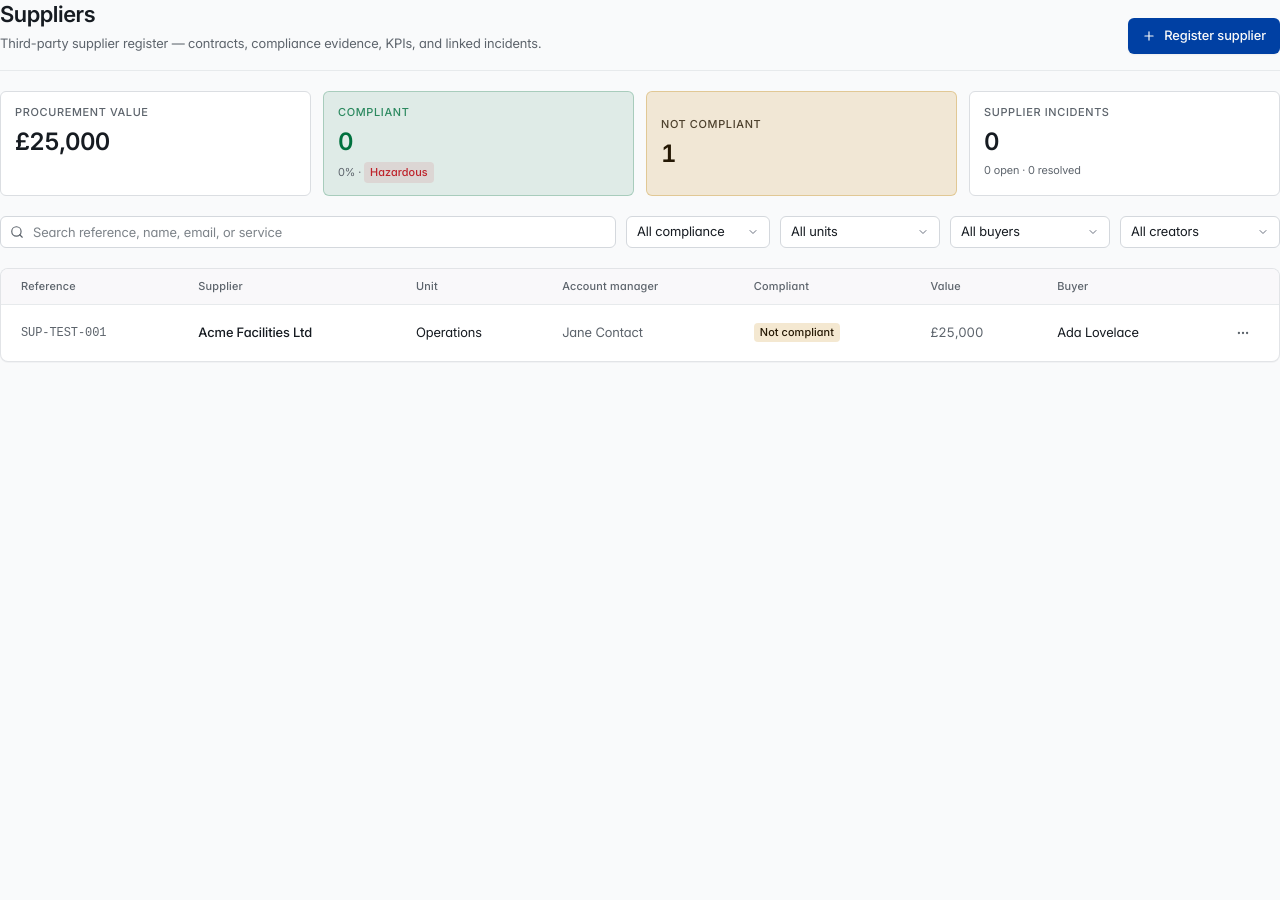
it: SuppliersListPage › shows kpi, incidents, and tasks panels
Click the text "Acme Facilities Ltd": [291, 333] box left=182, top=304, right=400, bottom=361
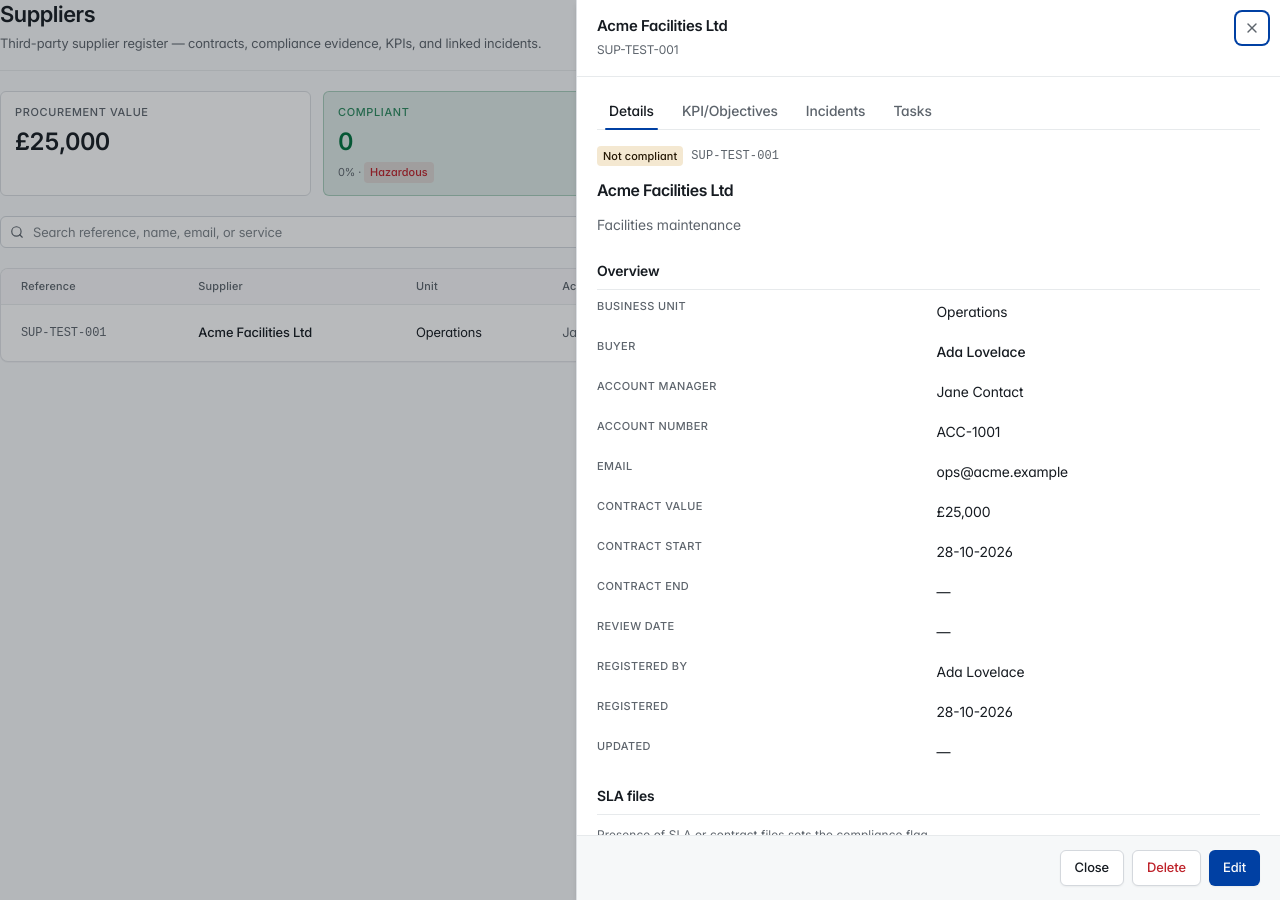
Click the tab "KPI/Objectives": [730, 111] box left=670, top=93, right=790, bottom=129
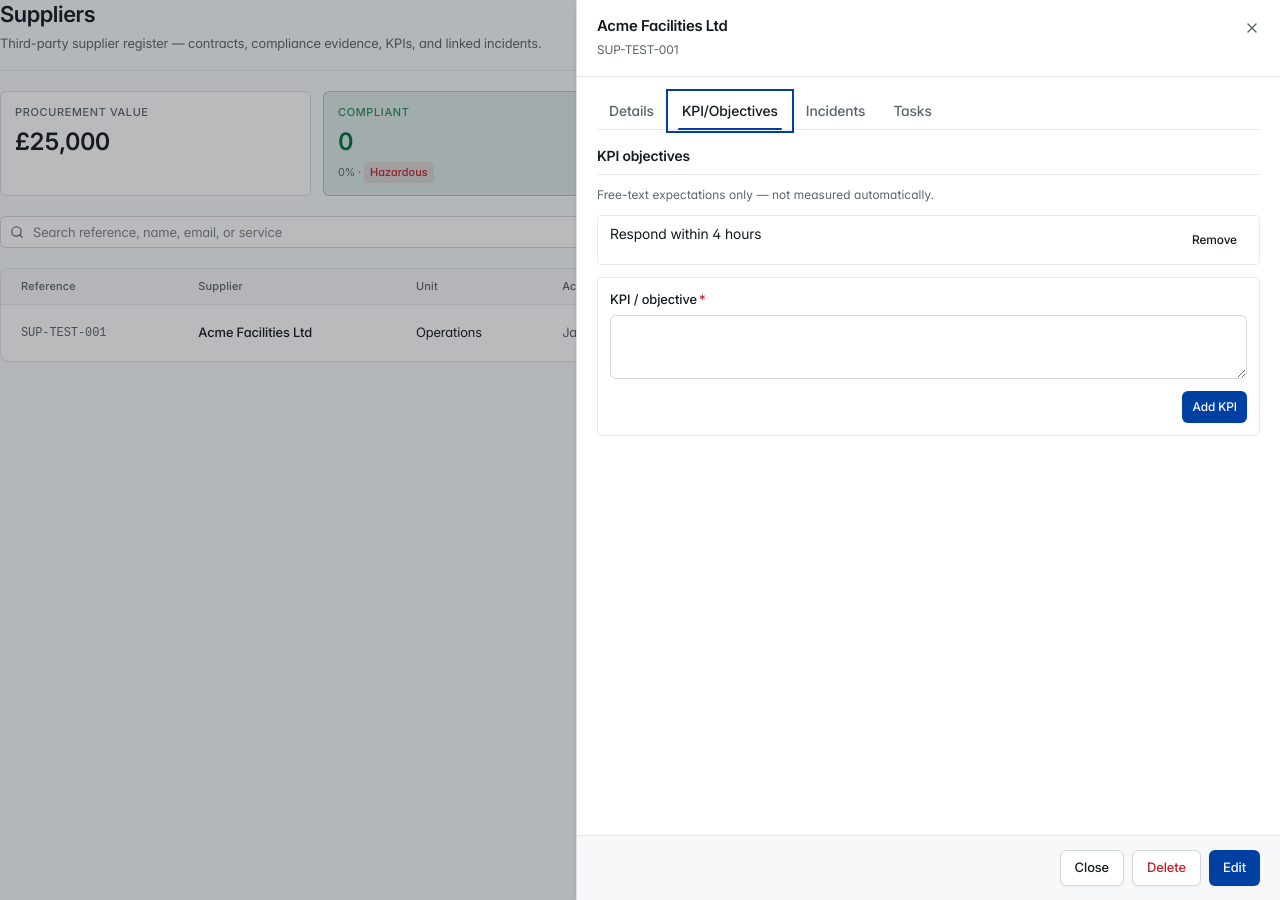
Check: the heading "KPI objectives" is shown, box left=597, top=146, right=1260, bottom=175
Check: the text "Respond within 4 hours" is shown, box left=610, top=224, right=761, bottom=244
Click the tab "Incidents": [836, 111] box left=794, top=93, right=877, bottom=129
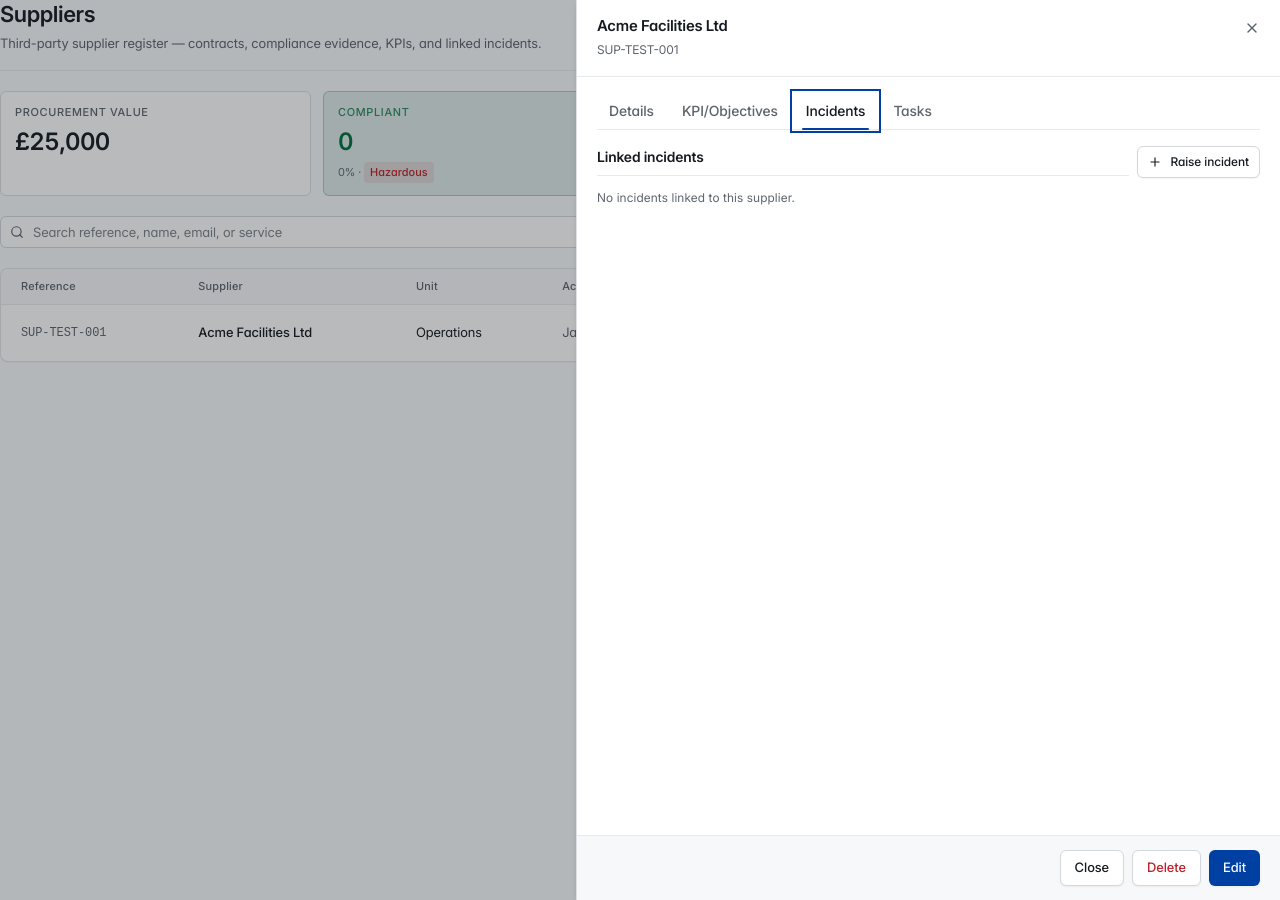
Check: the text "No incidents linked to this supplier." is shown, box left=597, top=190, right=795, bottom=205
Click the tab "Tasks": [913, 111] box left=881, top=93, right=944, bottom=129
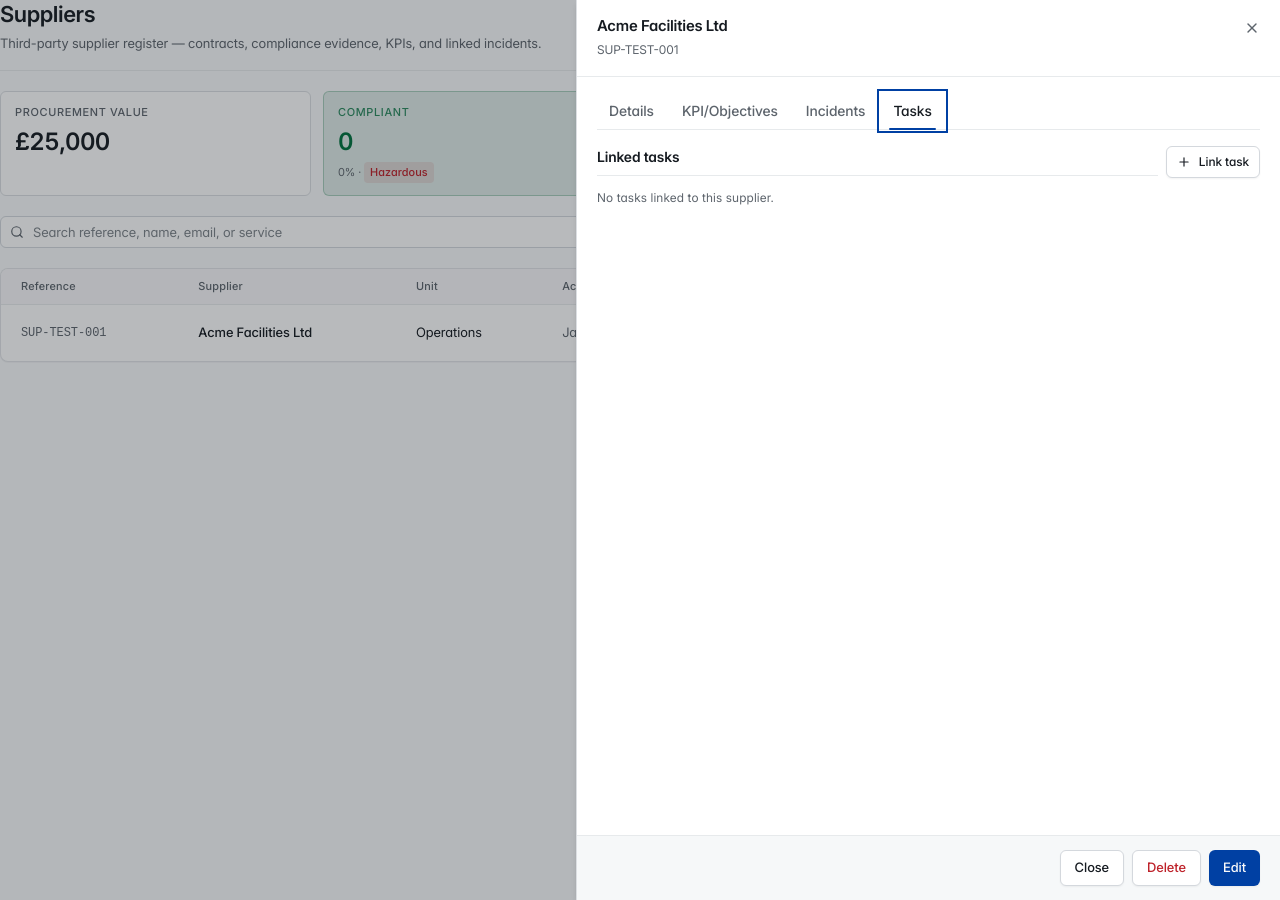
Check: the text "No tasks linked to this supplier." is shown, box left=597, top=190, right=774, bottom=205
